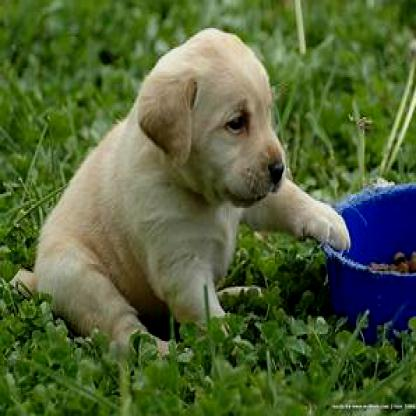dog: (10, 30, 352, 341)
